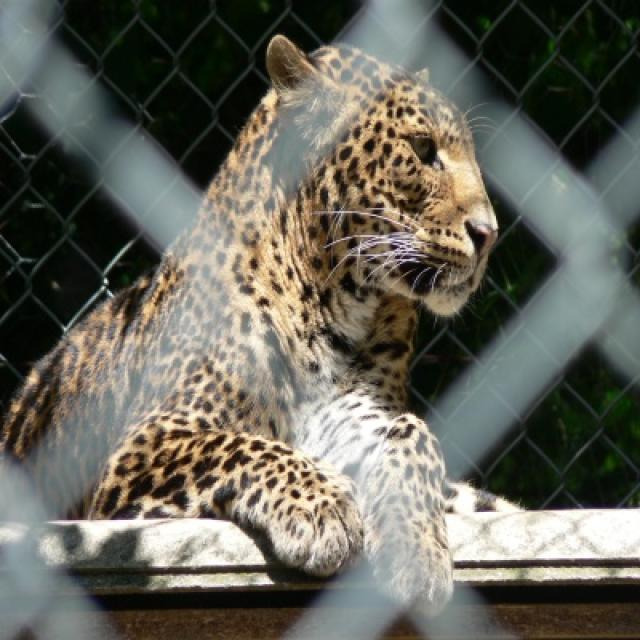not_pig: (0, 32, 528, 618)
